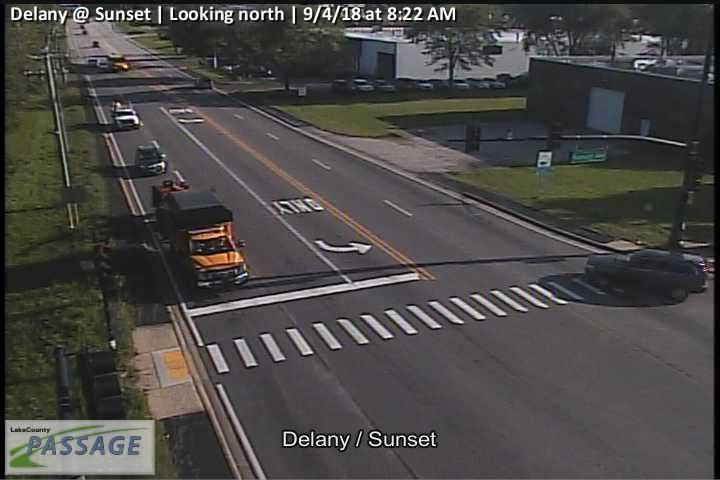SUV: (586, 249, 706, 301), (136, 143, 167, 173), (112, 106, 140, 130), (107, 52, 128, 71)
Sedan: (96, 57, 109, 72), (87, 58, 96, 65)
Truck: (153, 176, 249, 293)
